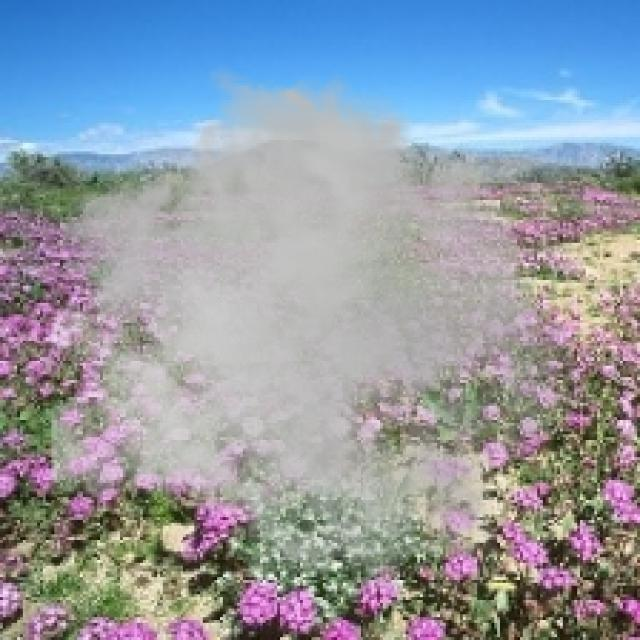Smoke: (51, 62, 578, 594)
